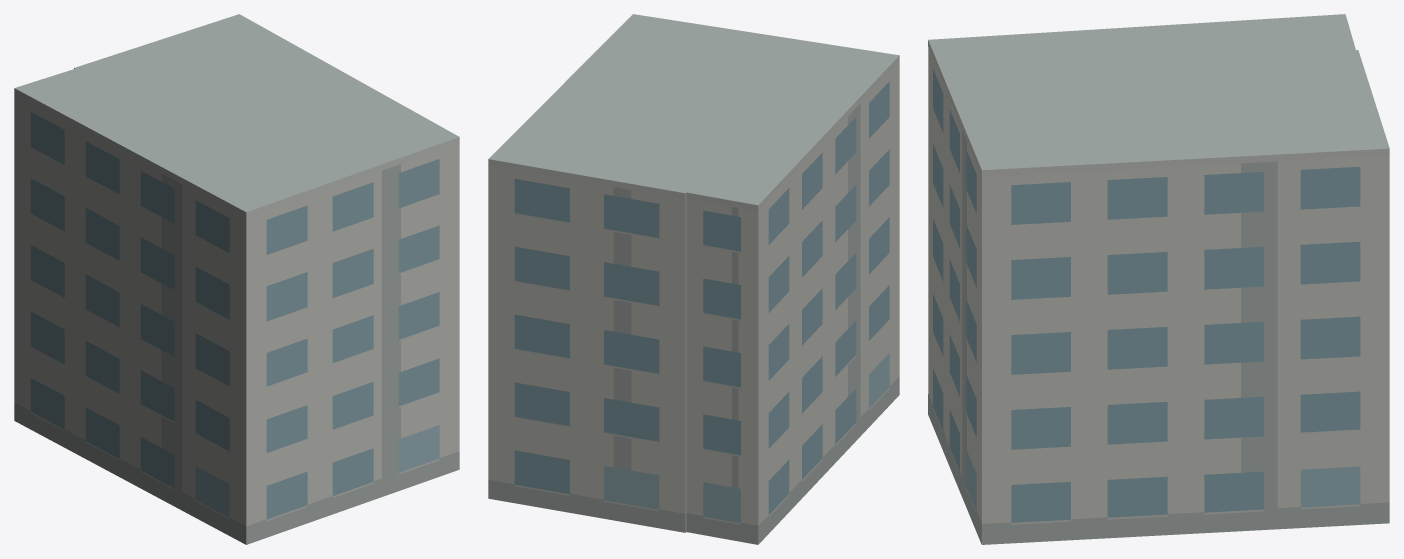
File: survey-upis-32947655.glb
3 renders of one model, left to right at view 1: azimuth 30°, elevation 25°; view 2: azimuth 150°, elevation 25°; view 3: azimuth 270°, elevation 25°, orthographic. The views are drawn at different scales.
Visible parts, largest first — view 1: survey-upis-32947655.tmp; view 2: survey-upis-32947655.tmp; view 3: survey-upis-32947655.tmp.
Boxes of the visible parts, x1=… form: survey-upis-32947655.tmp: x1=14, y1=14, x2=459, y2=544; survey-upis-32947655.tmp: x1=488, y1=14, x2=899, y2=544; survey-upis-32947655.tmp: x1=928, y1=14, x2=1389, y2=544.
Size of the model in its own units: 11.63 by 13 by 14.53.
